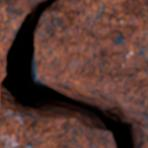broken_brick: (36, 0, 147, 142), (0, 94, 114, 147), (0, 0, 44, 81)
crack: (0, 0, 147, 147)
